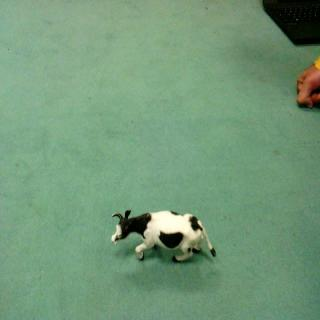cow: (109, 203, 221, 269)
